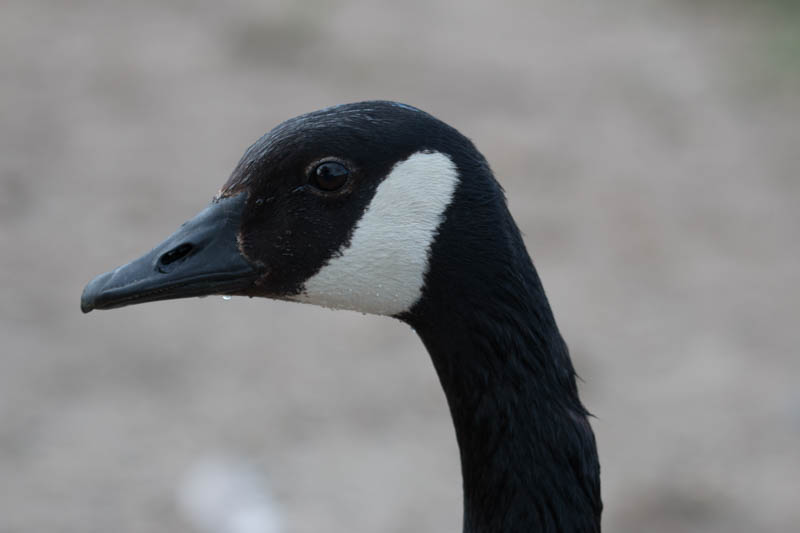goose-head: (79, 100, 533, 321)
